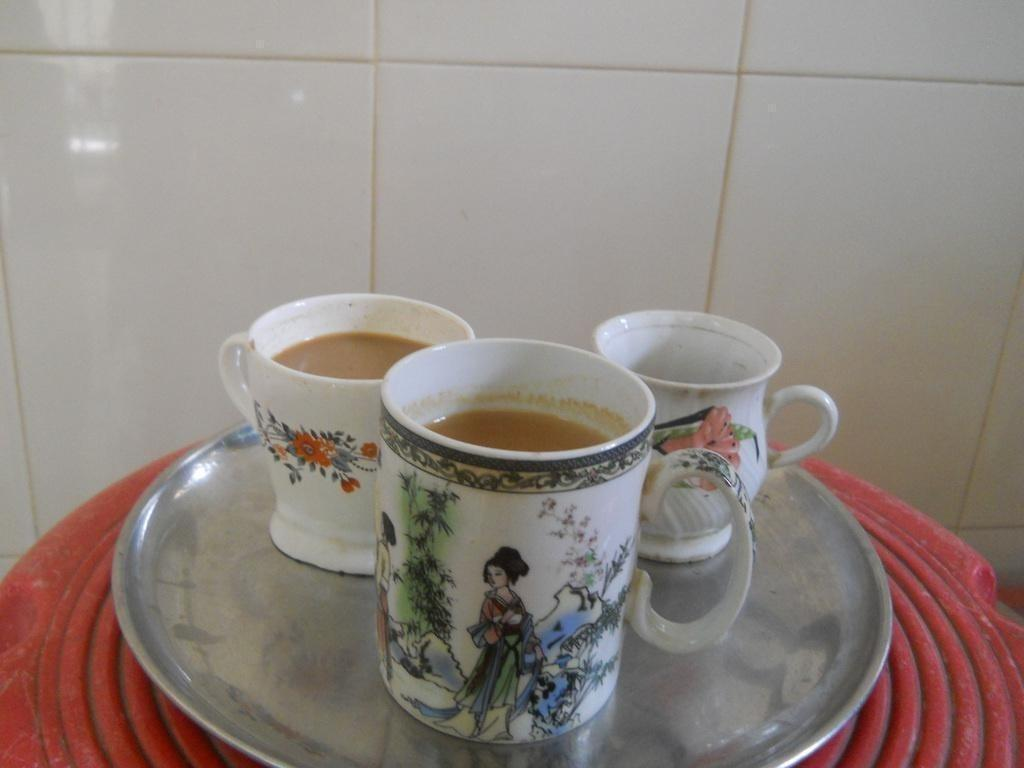cup-handle: (364, 336, 751, 748), (214, 286, 482, 576), (598, 310, 838, 567)
